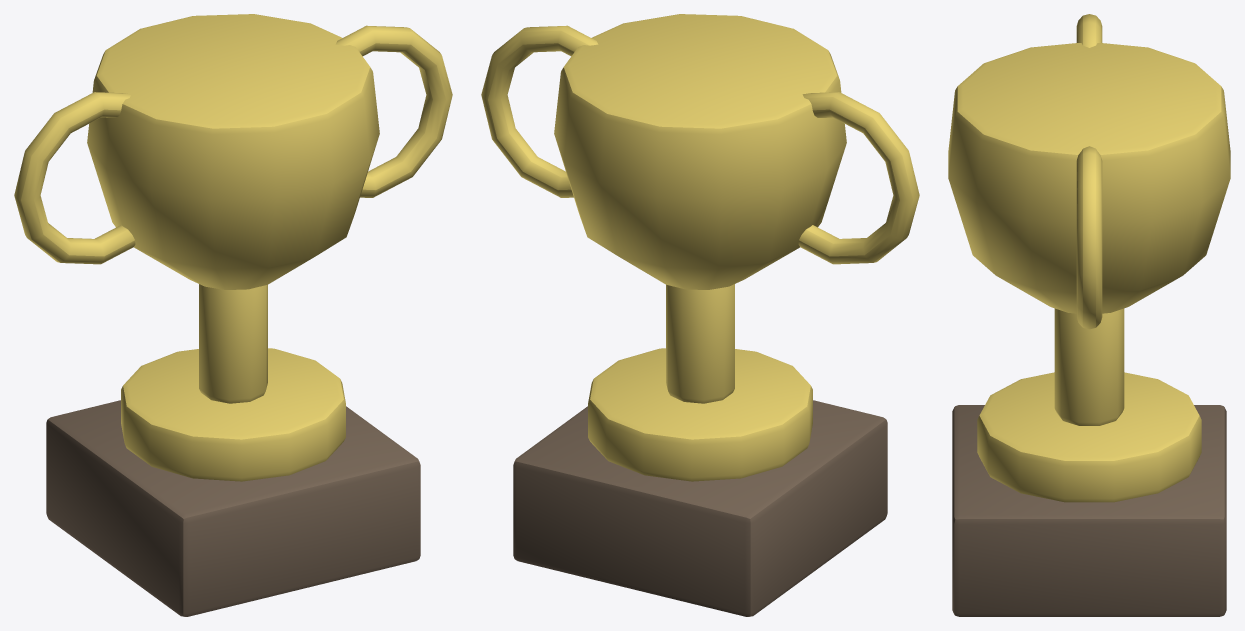
The model's file is trophy.glb.
3 renders of one model, left to right at view 1: azimuth 30°, elevation 25°; view 2: azimuth 150°, elevation 25°; view 3: azimuth 270°, elevation 25°, orthographic.
Parts seen in each view (by area): view 1: trophy; view 2: trophy; view 3: trophy.
Part boxes in pixels (x1=…): trophy: x1=14, y1=14, x2=452, y2=616; trophy: x1=481, y1=14, x2=919, y2=616; trophy: x1=948, y1=14, x2=1230, y2=616.
Size of the model in its own units: 0.1983 by 0.2096 by 0.1131.
